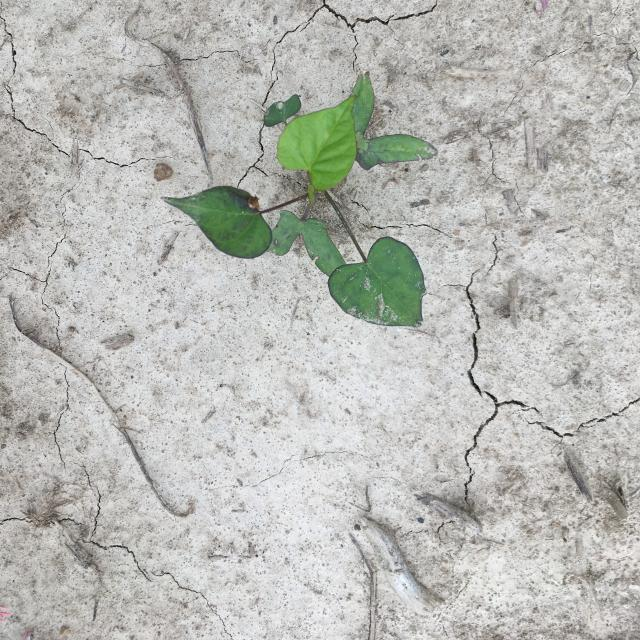MorningGlory: (161, 69, 438, 328)
